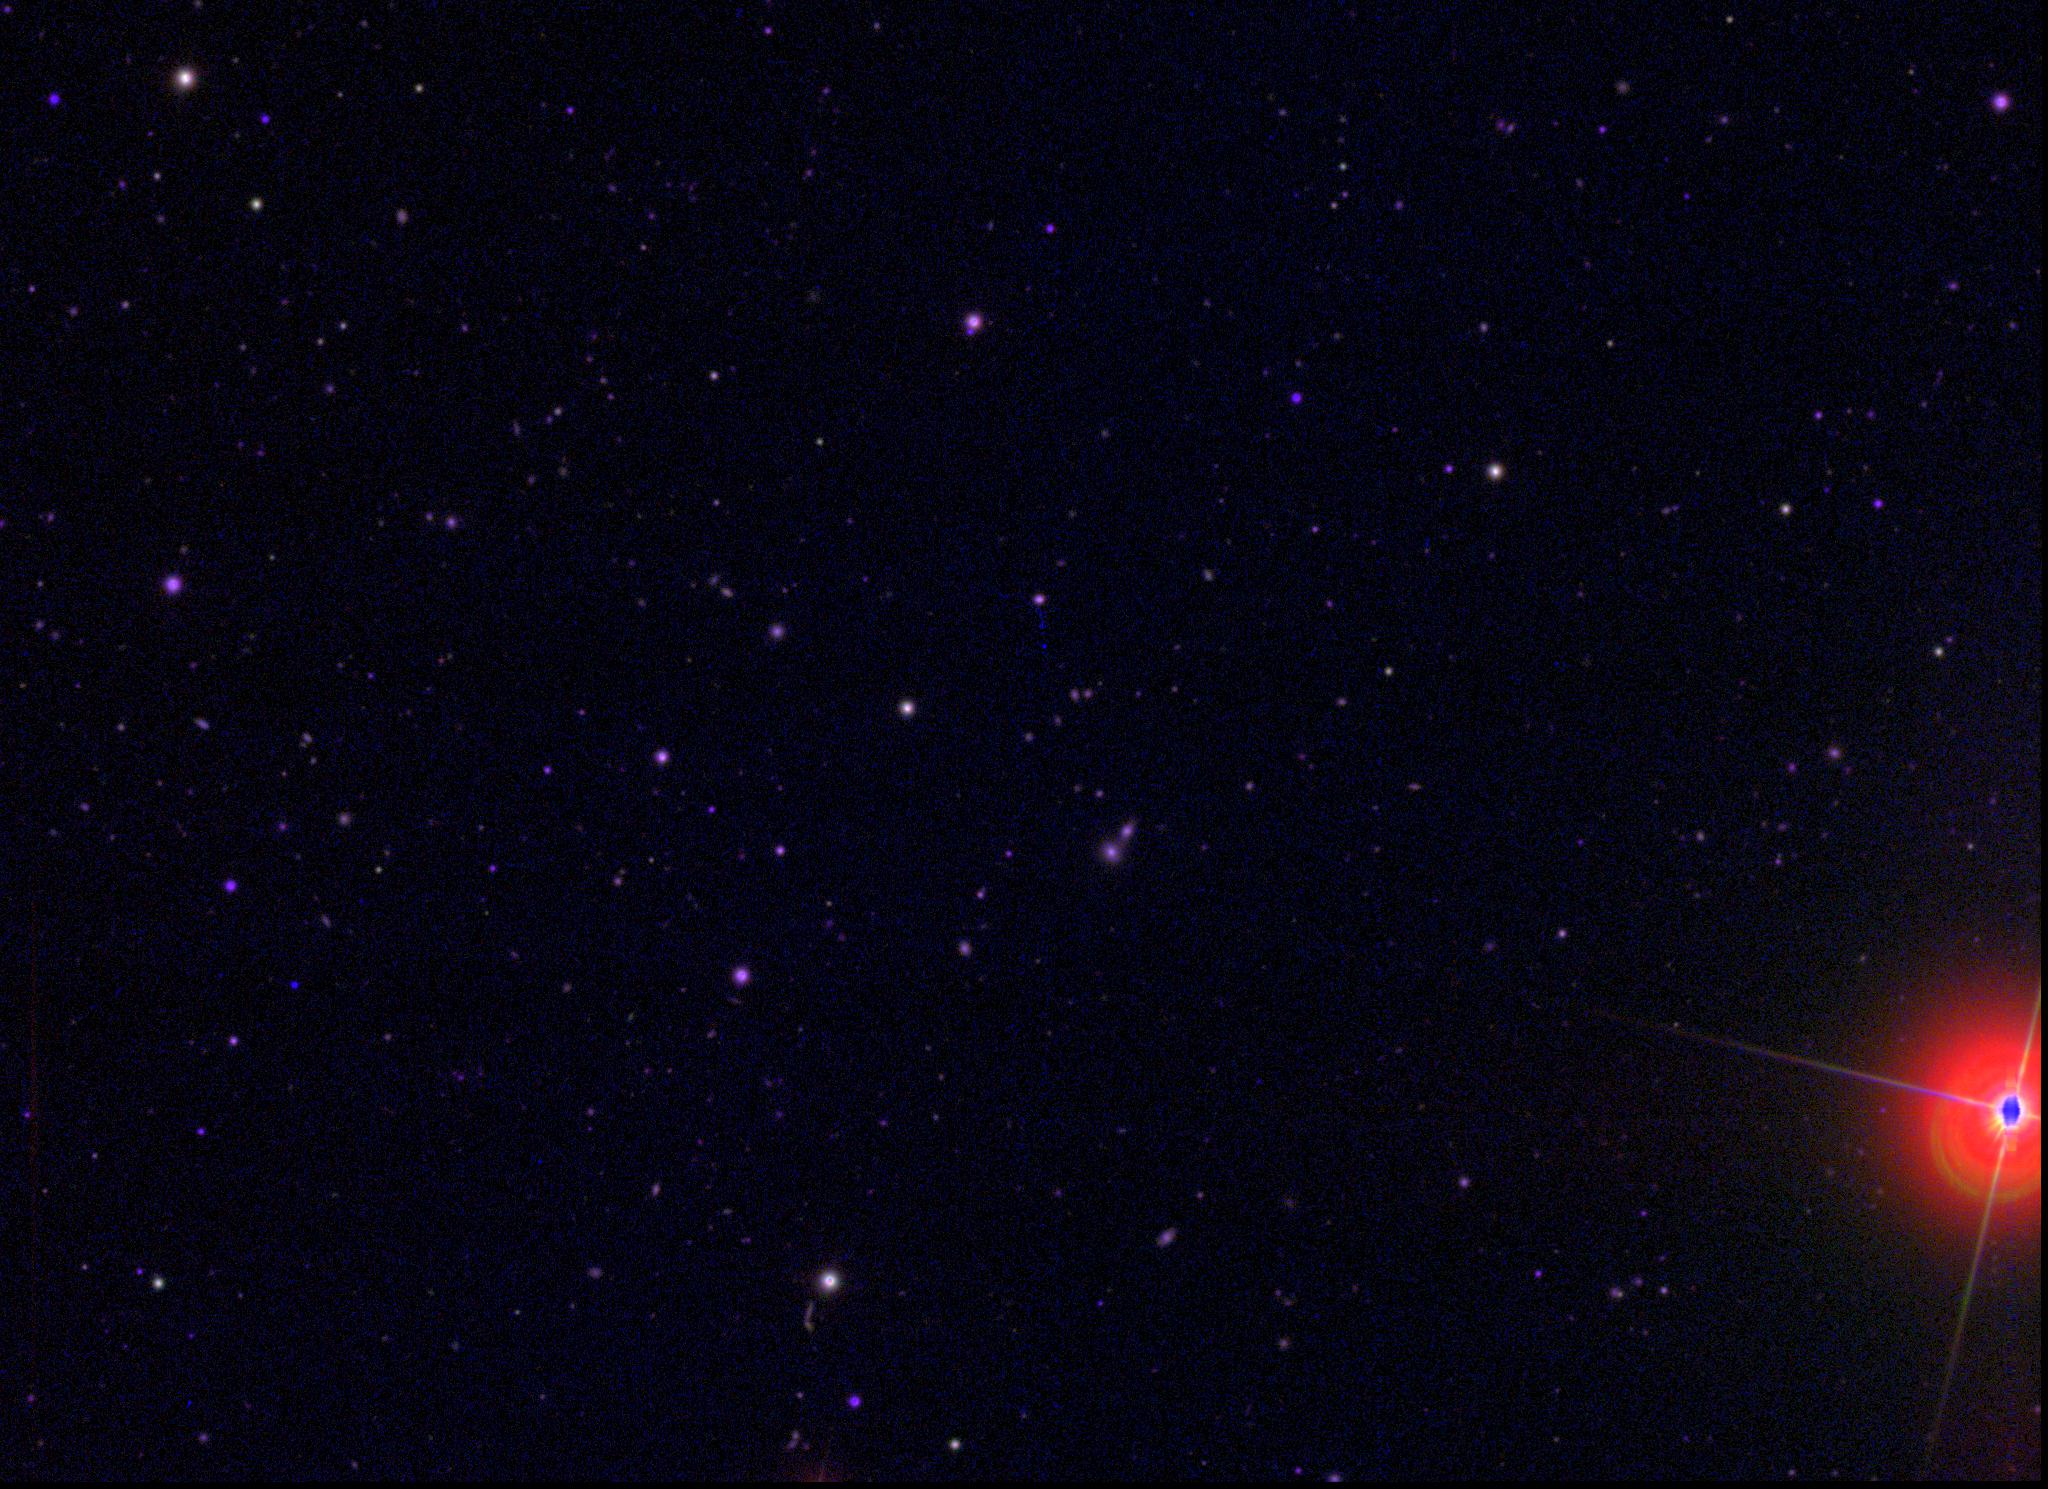L: (288, 978, 302, 993)
